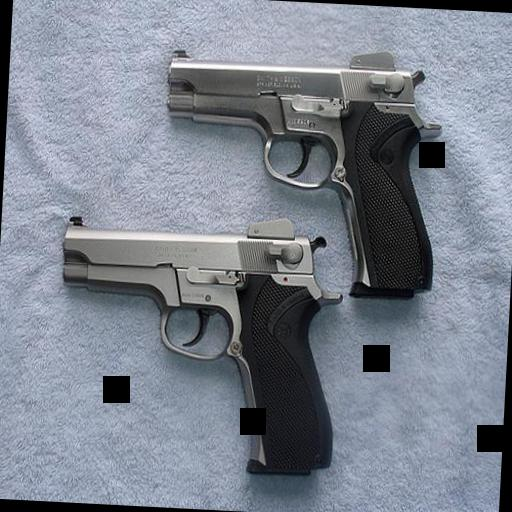Handgun: (151, 36, 451, 300), (49, 214, 350, 476)
